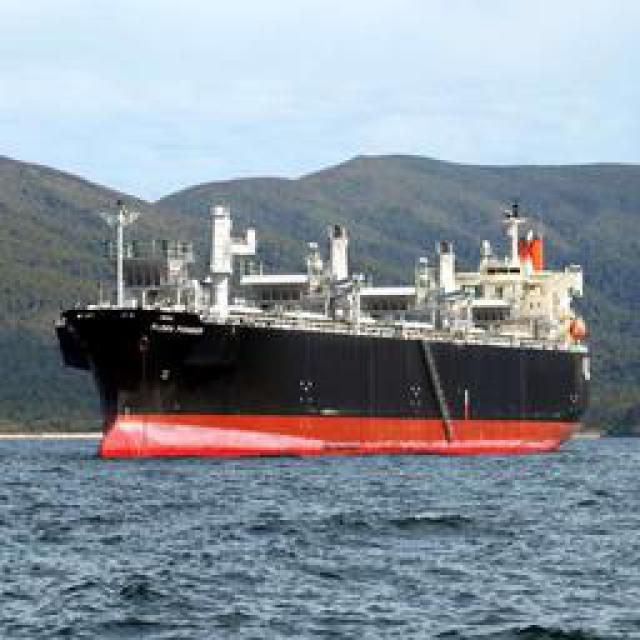Ship: (50, 200, 598, 470)
